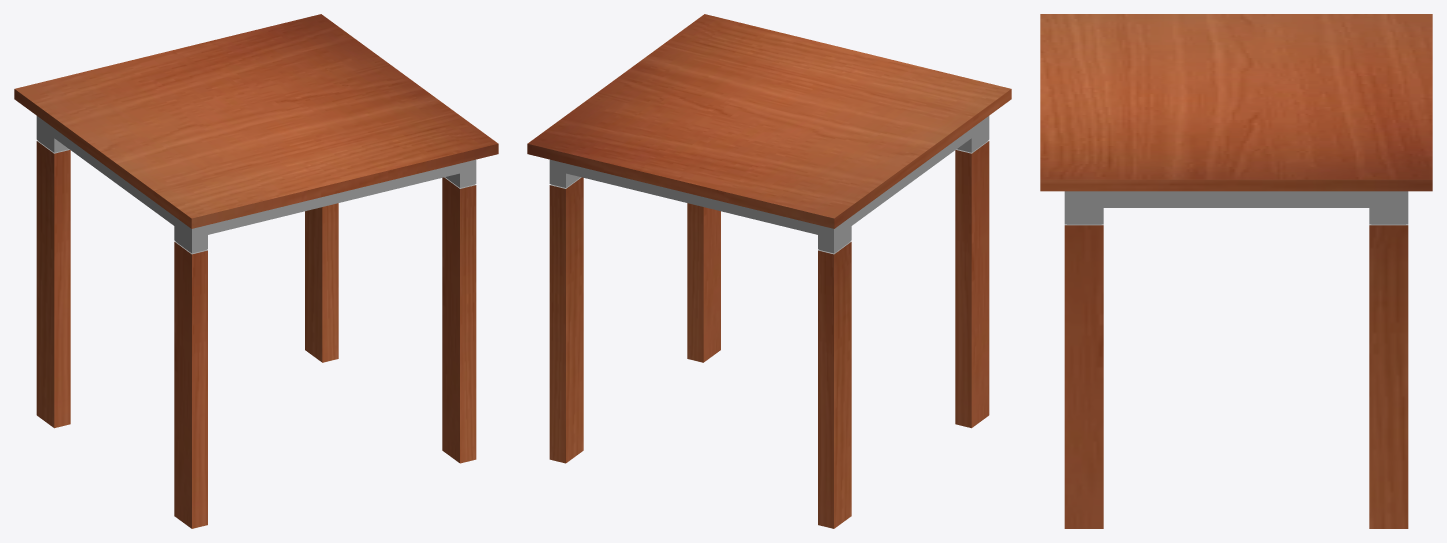
Rendered from sh-scopia-wooden-table-office.glb.
3 views of the same model, side by side, from view 1: azimuth 30°, elevation 25°; view 2: azimuth 150°, elevation 25°; view 3: azimuth 270°, elevation 25° (orthographic). The views are drawn at different scales.
Parts seen in each view (by area): view 1: woodred_woodred.jpg_woodred_woodred.jpg_woodred_woodred.j_wo, alumain_alumain_alumain.001; view 2: woodred_woodred.jpg_woodred_woodred.jpg_woodred_woodred.j_wo, alumain_alumain_alumain.001; view 3: woodred_woodred.jpg_woodred_woodred.jpg_woodred_woodred.j_wo, alumain_alumain_alumain.001.
Part boxes in pixels (left/top/right/bottom): woodred_woodred.jpg_woodred_woodred.jpg_woodred_woodred.j_wo: left=14, top=14, right=498, bottom=528; alumain_alumain_alumain.001: left=36, top=116, right=476, bottom=254; woodred_woodred.jpg_woodred_woodred.jpg_woodred_woodred.j_wo: left=527, top=14, right=1011, bottom=528; alumain_alumain_alumain.001: left=549, top=116, right=989, bottom=254; woodred_woodred.jpg_woodred_woodred.jpg_woodred_woodred.j_wo: left=1040, top=14, right=1432, bottom=528; alumain_alumain_alumain.001: left=1064, top=191, right=1408, bottom=225.
Size of the model in its own units: 1 by 1 by 1.
Materials: 2 (1 with a texture image).
